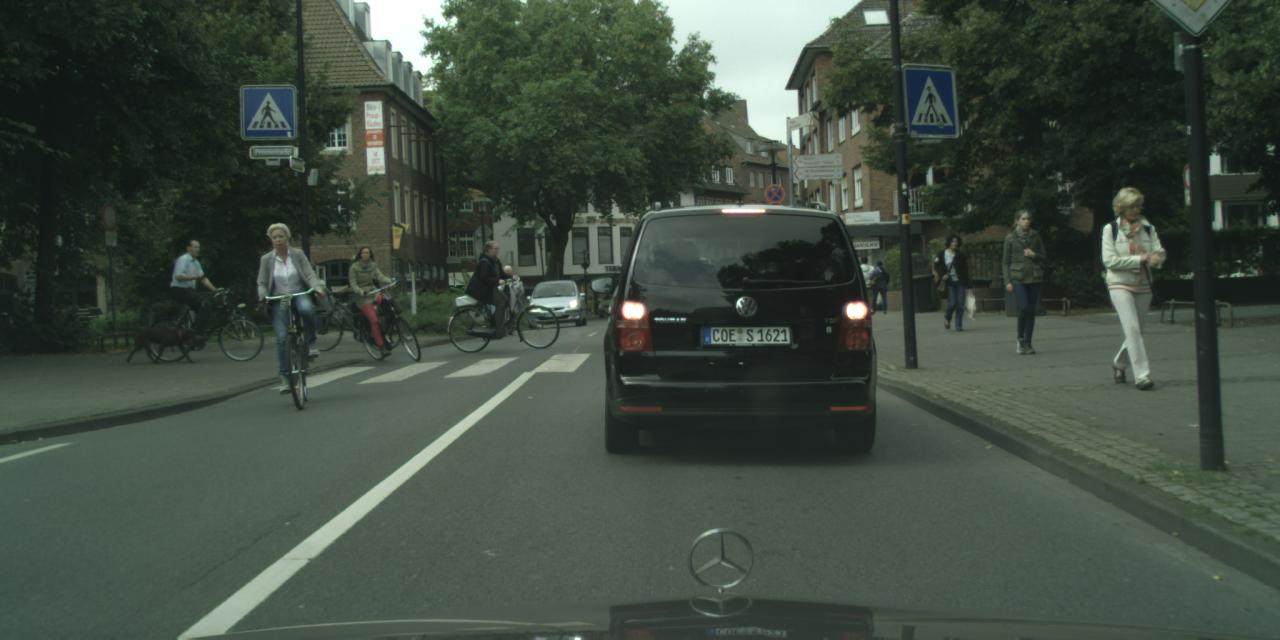ped: (1089, 186, 1169, 384), (258, 222, 318, 370), (994, 208, 1054, 353), (174, 239, 215, 340), (354, 246, 394, 345), (477, 240, 516, 336), (934, 233, 972, 328), (496, 264, 520, 324), (853, 256, 875, 313), (868, 259, 889, 314)
